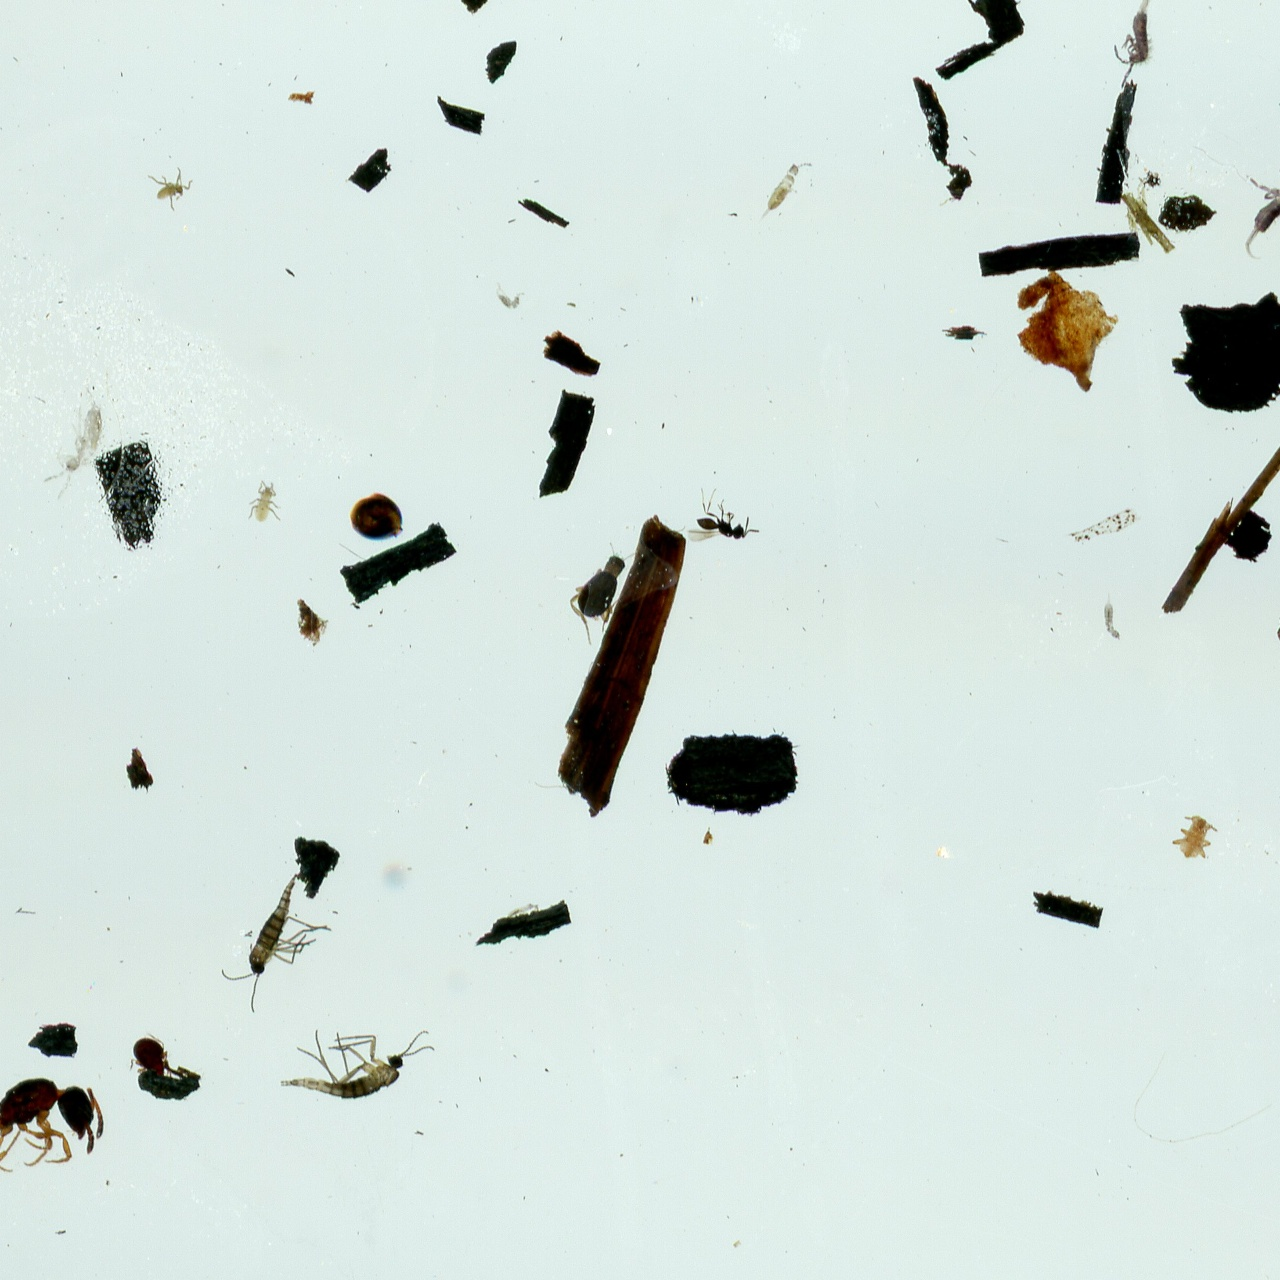arthropod: (207, 857, 348, 1032), (0, 1060, 116, 1203), (279, 1024, 436, 1105), (32, 379, 127, 510), (556, 532, 640, 652), (1213, 139, 1280, 264), (753, 151, 816, 233), (1112, 0, 1164, 91), (680, 486, 761, 544), (348, 490, 408, 544), (127, 1032, 175, 1078), (147, 166, 195, 212), (1173, 815, 1219, 859), (247, 481, 281, 524), (1101, 588, 1124, 645), (495, 279, 526, 313)
